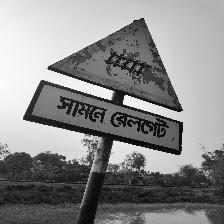Rail-crossing: (24, 17, 185, 156)
